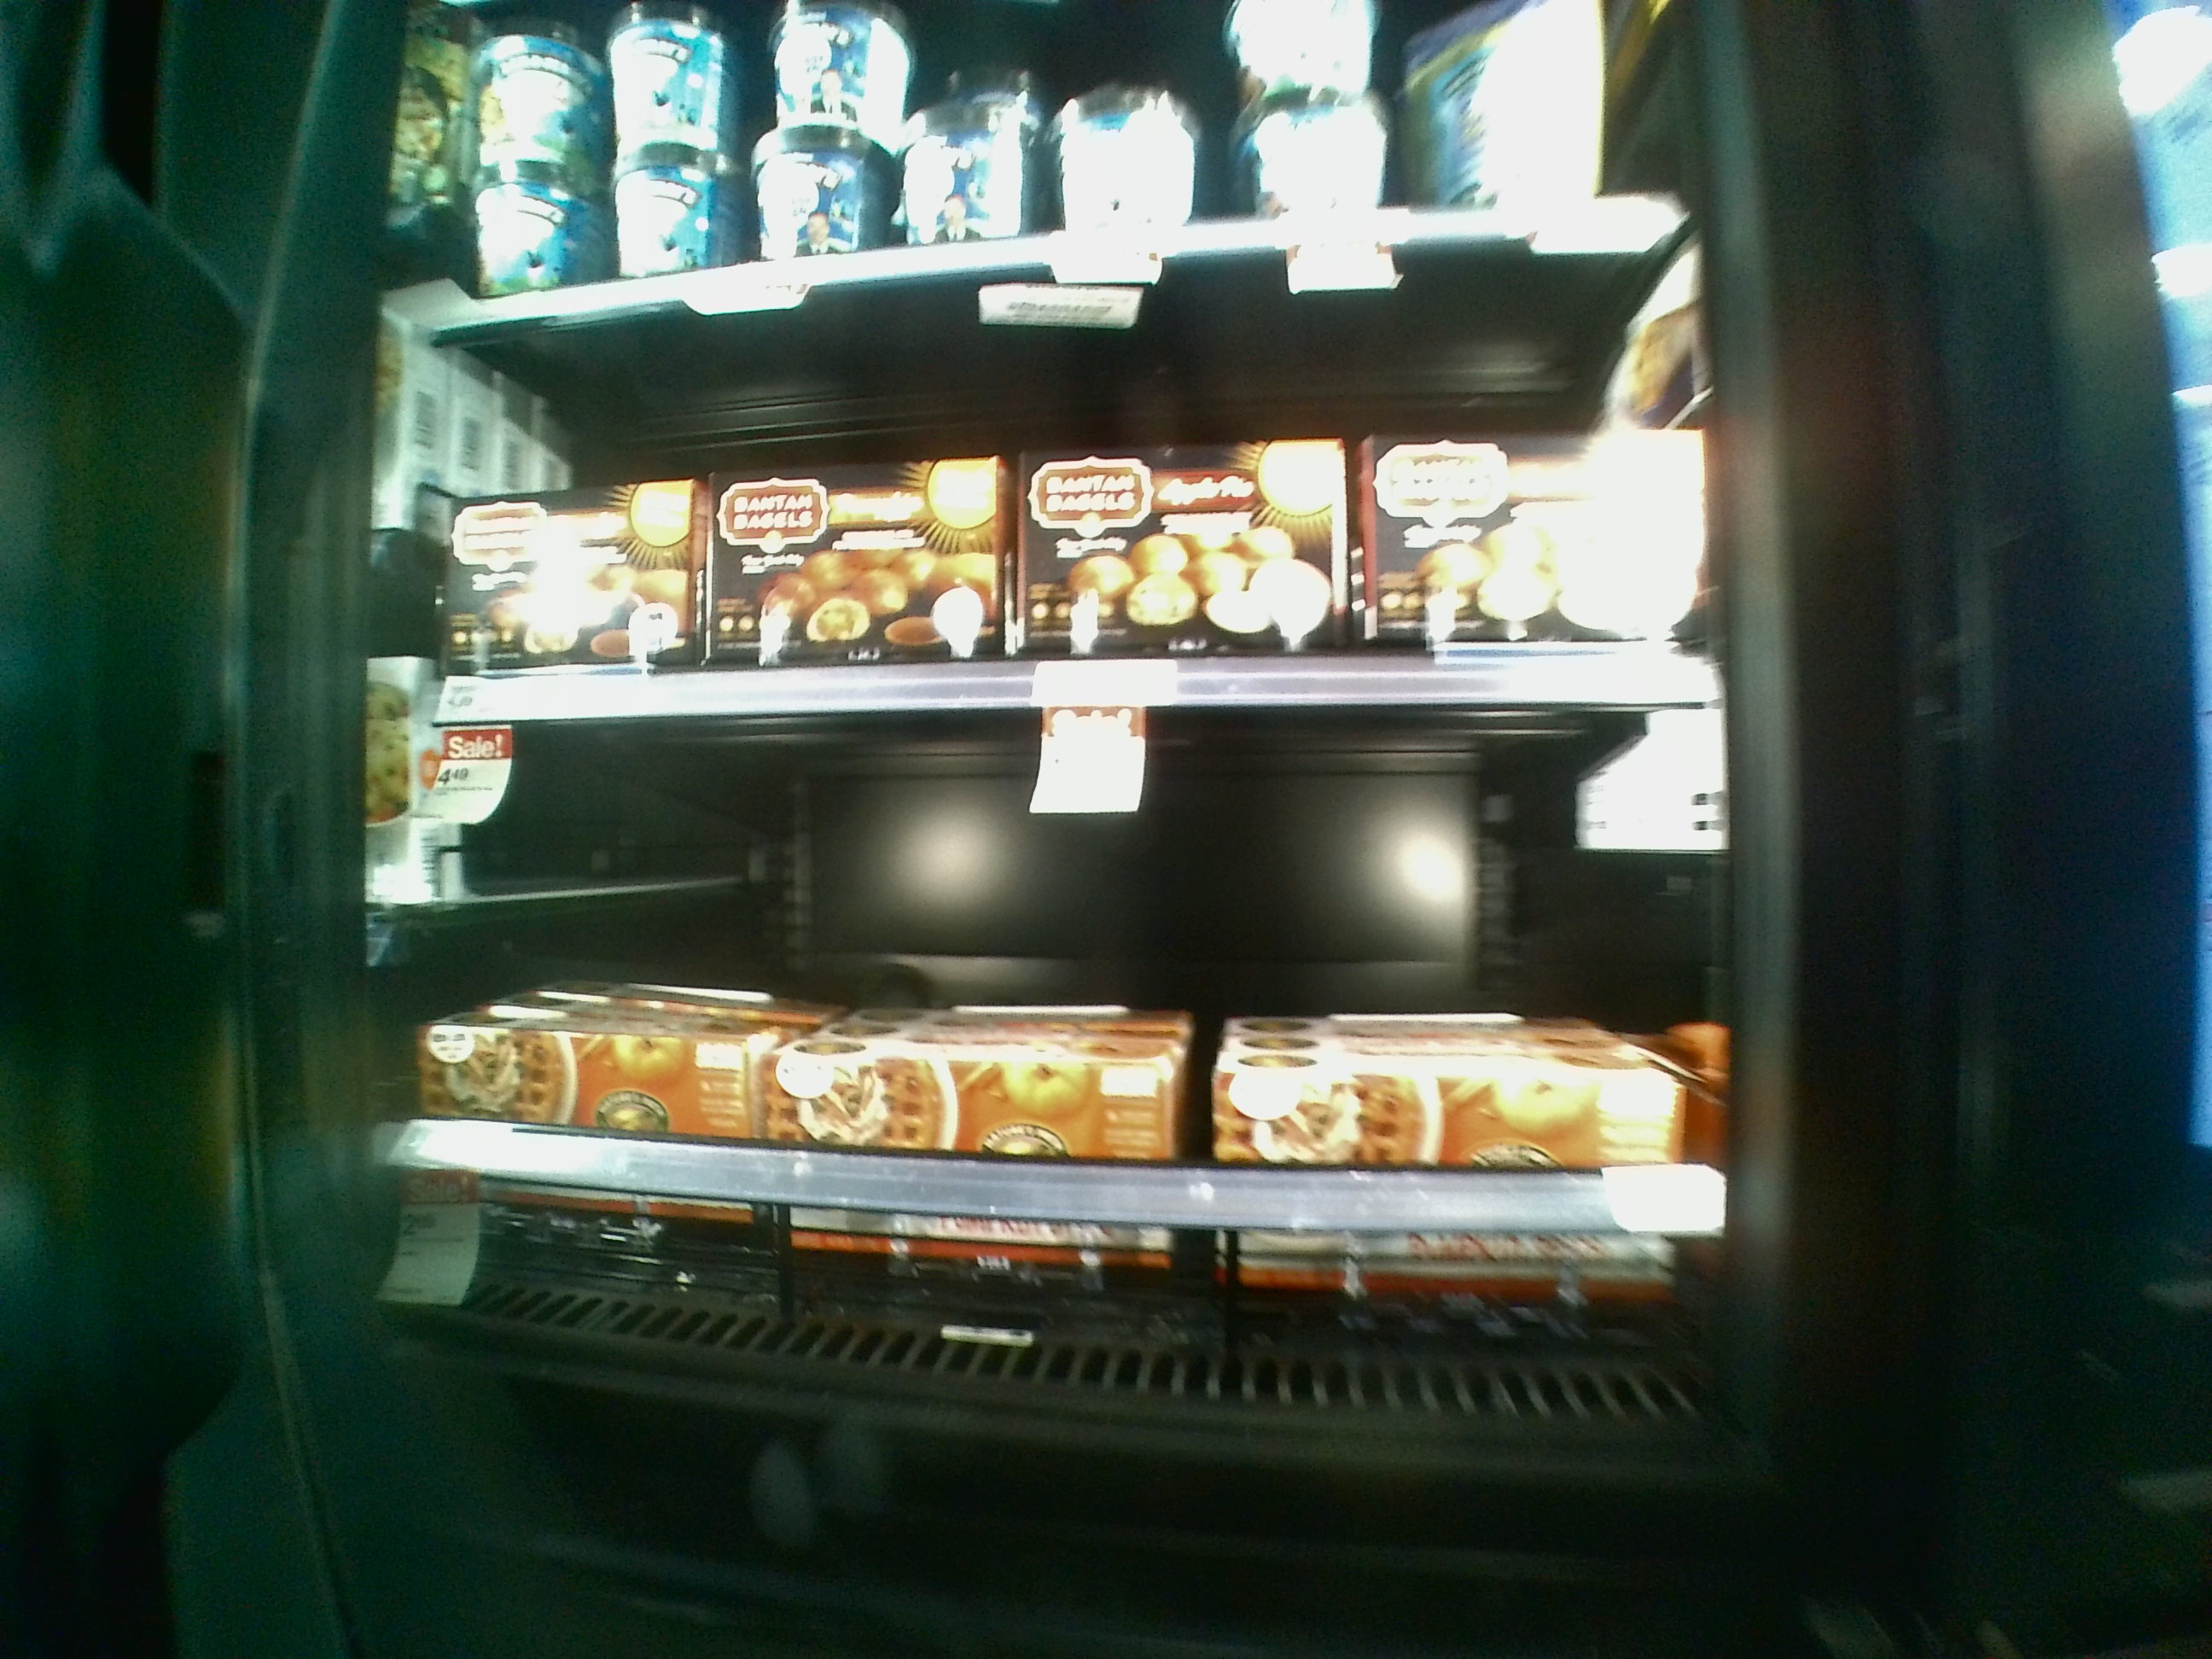shelf: (394, 699, 1724, 1335), (409, 314, 1710, 706)
